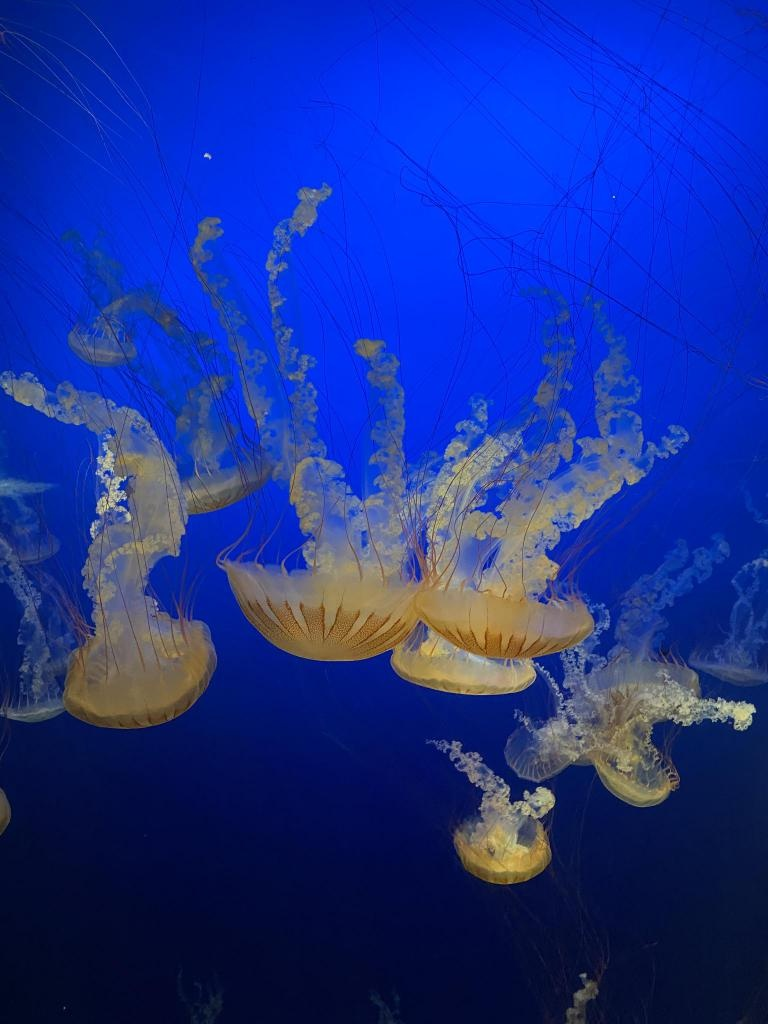jellyfish: (222, 559, 428, 663), (63, 618, 217, 730), (418, 586, 596, 656), (390, 616, 535, 696), (456, 809, 553, 883), (590, 726, 674, 808), (574, 666, 700, 716), (158, 463, 274, 515), (504, 720, 587, 780), (686, 656, 768, 688), (71, 330, 139, 366), (6, 524, 63, 566), (6, 694, 72, 724)
